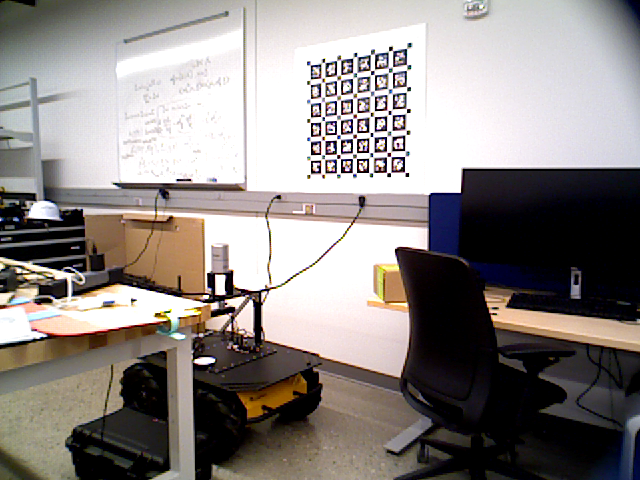painting4: (300, 36, 421, 192)
